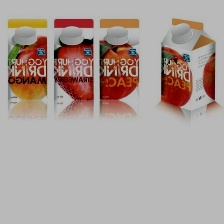carton: (159, 16, 218, 111), (97, 13, 141, 101), (52, 15, 95, 102), (6, 16, 49, 102)
